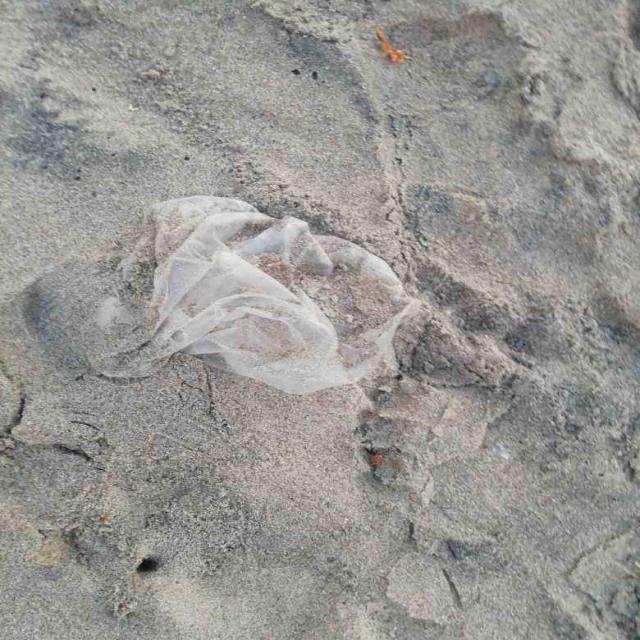nhua: (152, 196, 416, 395)
